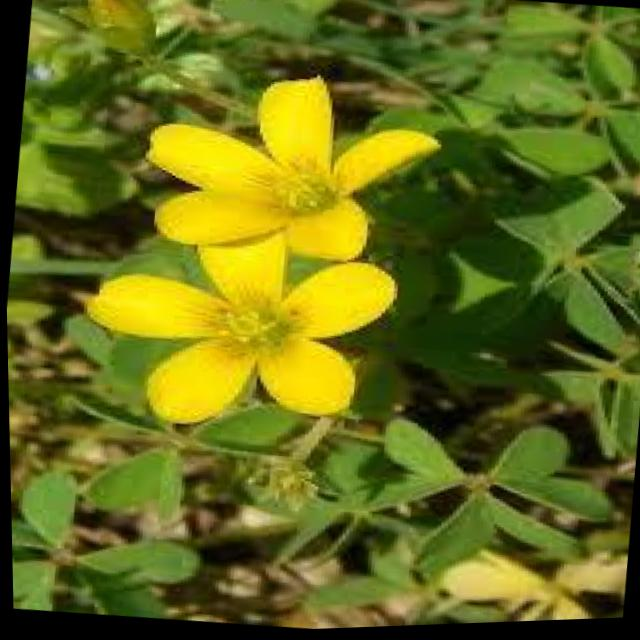Flower: (68, 194, 417, 446), (125, 52, 444, 273)
